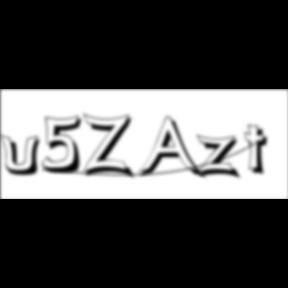5: (42, 114, 88, 176)
A: (138, 116, 207, 182)
Z: (82, 112, 138, 181)
t: (244, 124, 276, 179)
u: (0, 132, 48, 178)
z: (196, 134, 244, 182)
